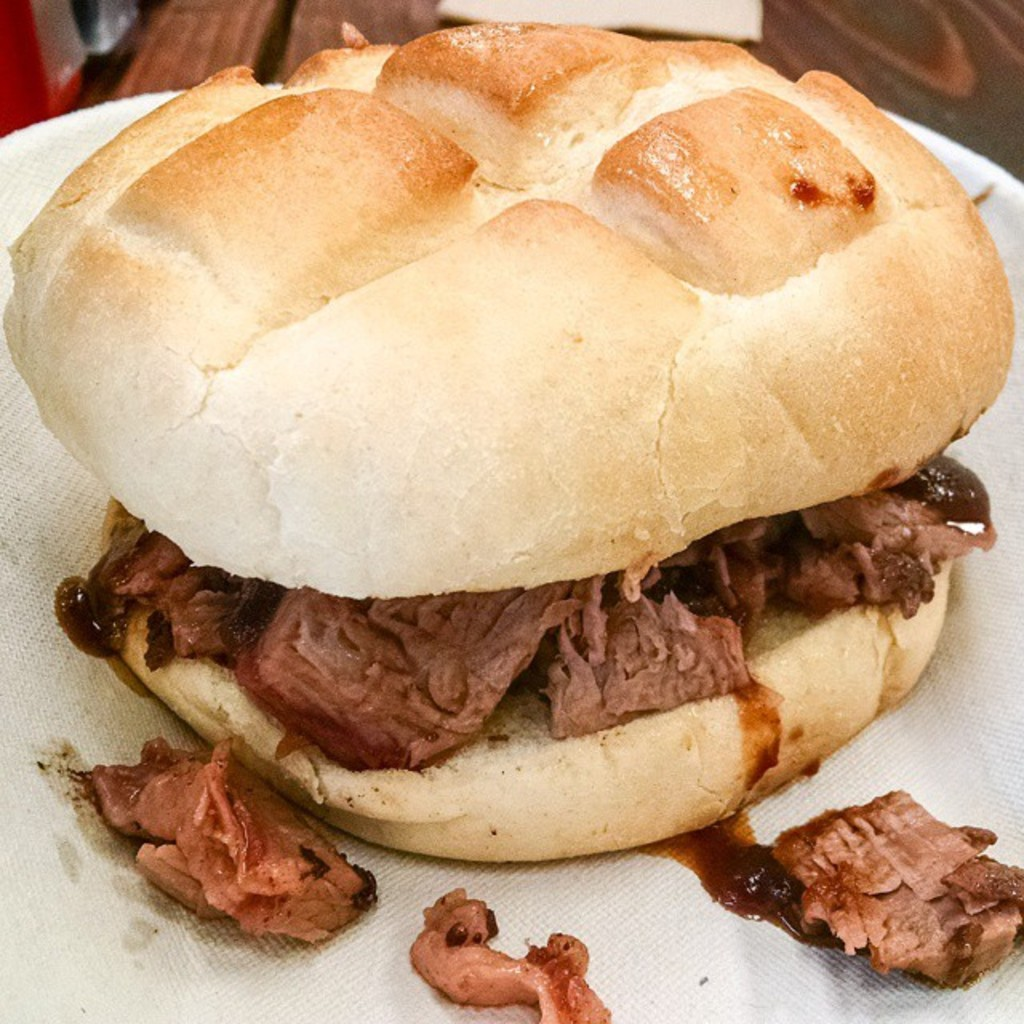Hamburger: (0, 25, 1022, 867)
